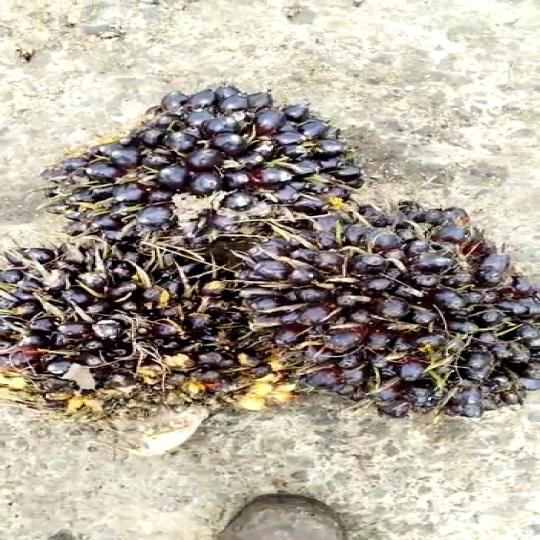mentah: (228, 203, 540, 421), (0, 212, 293, 429), (51, 83, 370, 243)
